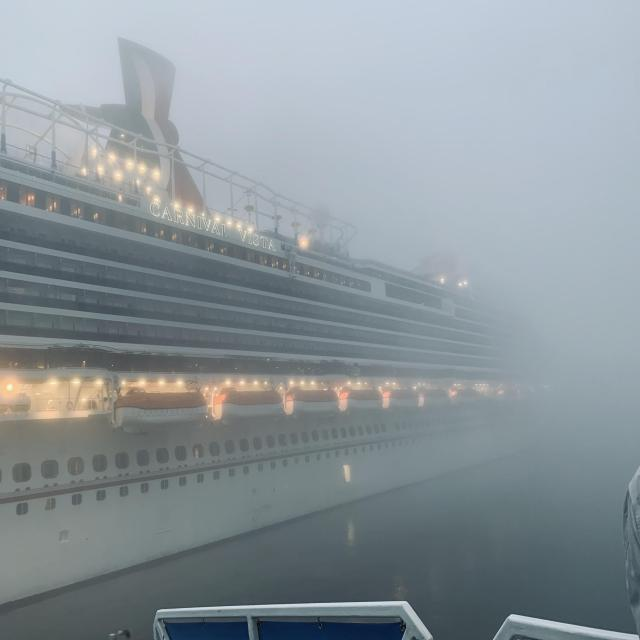passenger ship: (0, 61, 596, 584)
